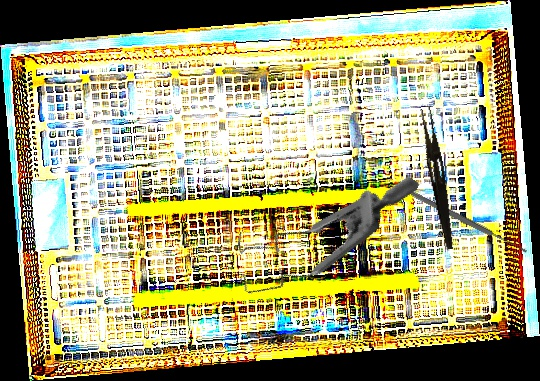Dressing Forceps: (415, 106, 461, 251)
Speculum: (215, 117, 421, 340)
Surgical Spoon: (409, 189, 529, 256)
